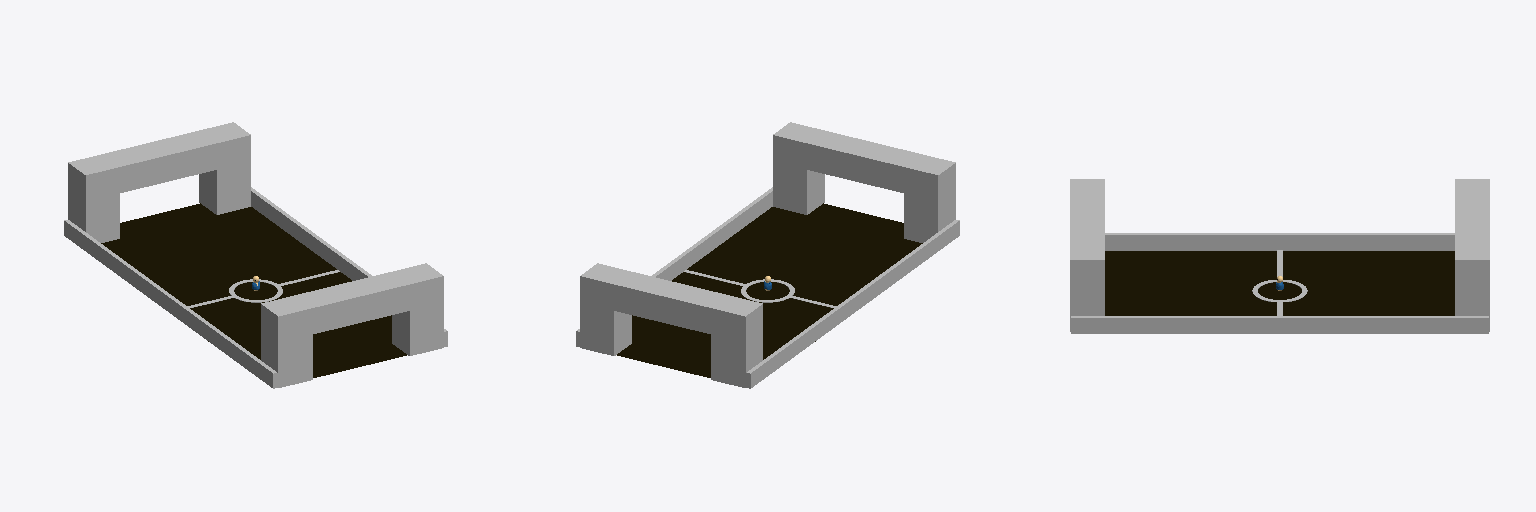
Rendered from court.obj.
3 views of the same model, side by side, from view 1: azimuth 30°, elevation 25°; view 2: azimuth 150°, elevation 25°; view 3: azimuth 270°, elevation 25° (orthographic).
Parts seen in each view (by area): view 1: Cube, Plane_Plane.001; view 2: Cube, Plane_Plane.001; view 3: Cube, Plane_Plane.001.
Boxes of the visible parts, <box> form: Cube: <box>64,122,447,388</box>; Plane_Plane.001: <box>101,203,406,377</box>; Cube: <box>576,122,959,388</box>; Plane_Plane.001: <box>617,203,922,377</box>; Cube: <box>1070,179,1489,333</box>; Plane_Plane.001: <box>1105,251,1454,315</box>.
Bounding box in the file's own units: 23.73 × 9.53 × 49.55.